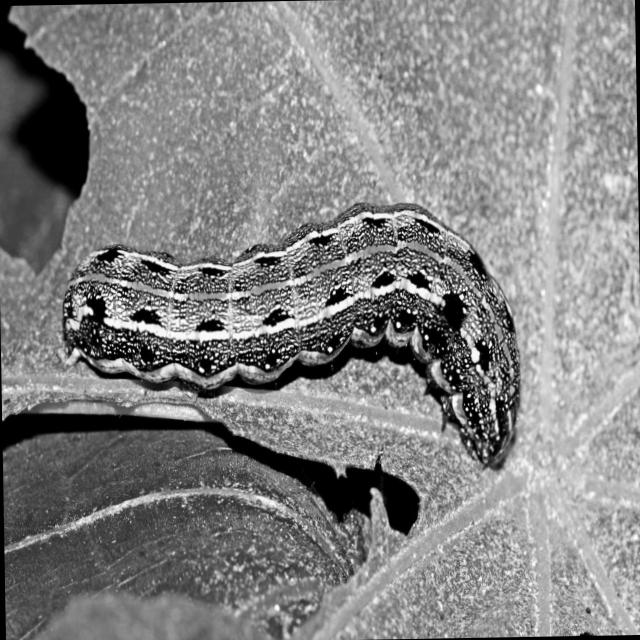Armyworm: (52, 133, 527, 487)
